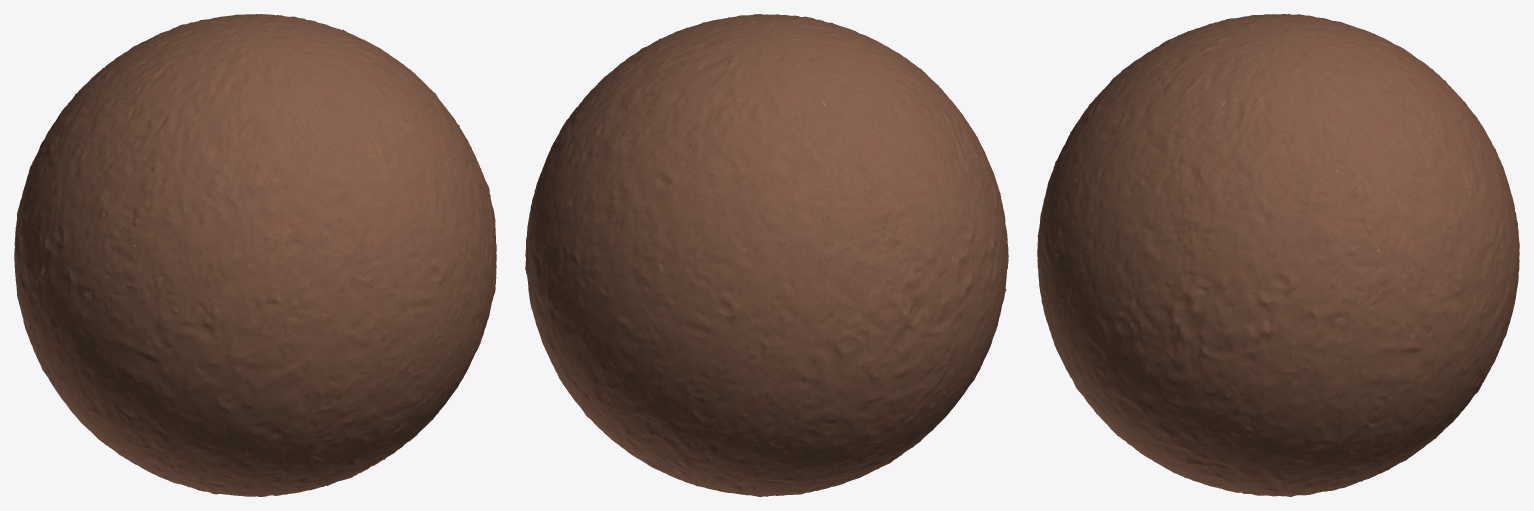
The model's file is red_sand_1k.gltf.
3 views of the same model, side by side, from view 1: azimuth 30°, elevation 25°; view 2: azimuth 150°, elevation 25°; view 3: azimuth 270°, elevation 25° (orthographic).
Visible parts, largest first — view 1: sphere_gltf; view 2: sphere_gltf; view 3: sphere_gltf.
Boxes of the visible parts, box(x1,y1,x2,y2) form: sphere_gltf: box(14, 14, 496, 496); sphere_gltf: box(525, 14, 1008, 496); sphere_gltf: box(1037, 14, 1519, 496).
Size of the model in its own units: 3.01 by 3 by 3.
Materials: 1 (1 with a texture image).
